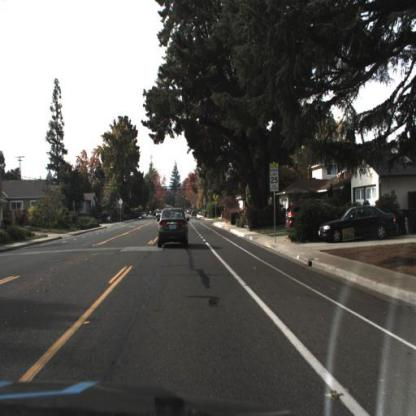car: (317, 206, 397, 246), (286, 198, 342, 245), (158, 208, 189, 248)
